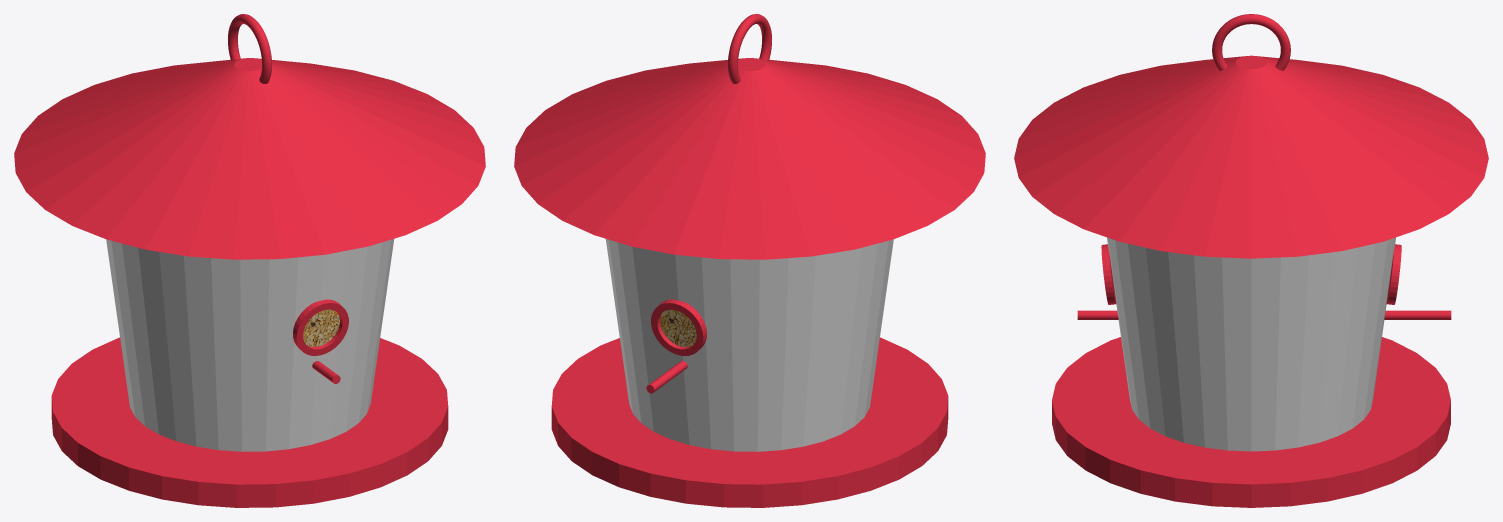
File: Bird Feeder 1.fbx
3 renders of one model, left to right at view 1: azimuth 30°, elevation 25°; view 2: azimuth 150°, elevation 25°; view 3: azimuth 270°, elevation 25°, orthographic.
Parts seen in each view (by area): view 1: Cylinder.025, Cylinder.037, Torus.002; view 2: Cylinder.025, Cylinder.027, Torus.002; view 3: Cylinder.025, Torus.002, Cylinder.028, Cylinder.027, Cylinder.037.
Part boxes in pixels (x1,y1,x2,y2): Cylinder.025: (14,58,485,507); Cylinder.037: (293,299,348,355); Torus.002: (228,14,271,83); Cylinder.025: (514,58,985,507); Cylinder.027: (651,299,706,355); Torus.002: (728,14,771,83); Cylinder.025: (1014,55,1488,507); Torus.002: (1212,14,1290,70); Cylinder.028: (1384,310,1451,319); Cylinder.027: (1386,244,1401,304); Cylinder.037: (1101,244,1116,304).
Bounding box in the file's own units: 261 × 248 × 261.
